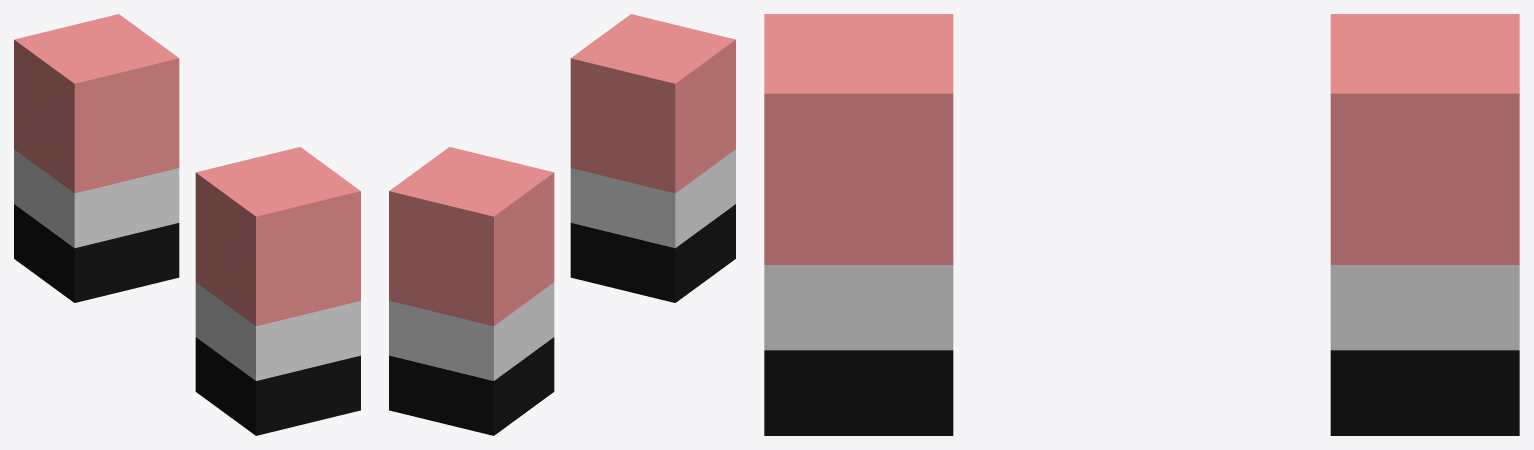
The model's file is perso2-1.obj.
The picture shows the model from 3 angles, left to right: view 1: azimuth 30°, elevation 25°; view 2: azimuth 150°, elevation 25°; view 3: azimuth 270°, elevation 25°; orthographic projection. The views are drawn at different scales.
Size of the model in its own units: 0.2 by 0.4 by 0.8.
Materials: 1 (1 with a texture image).
